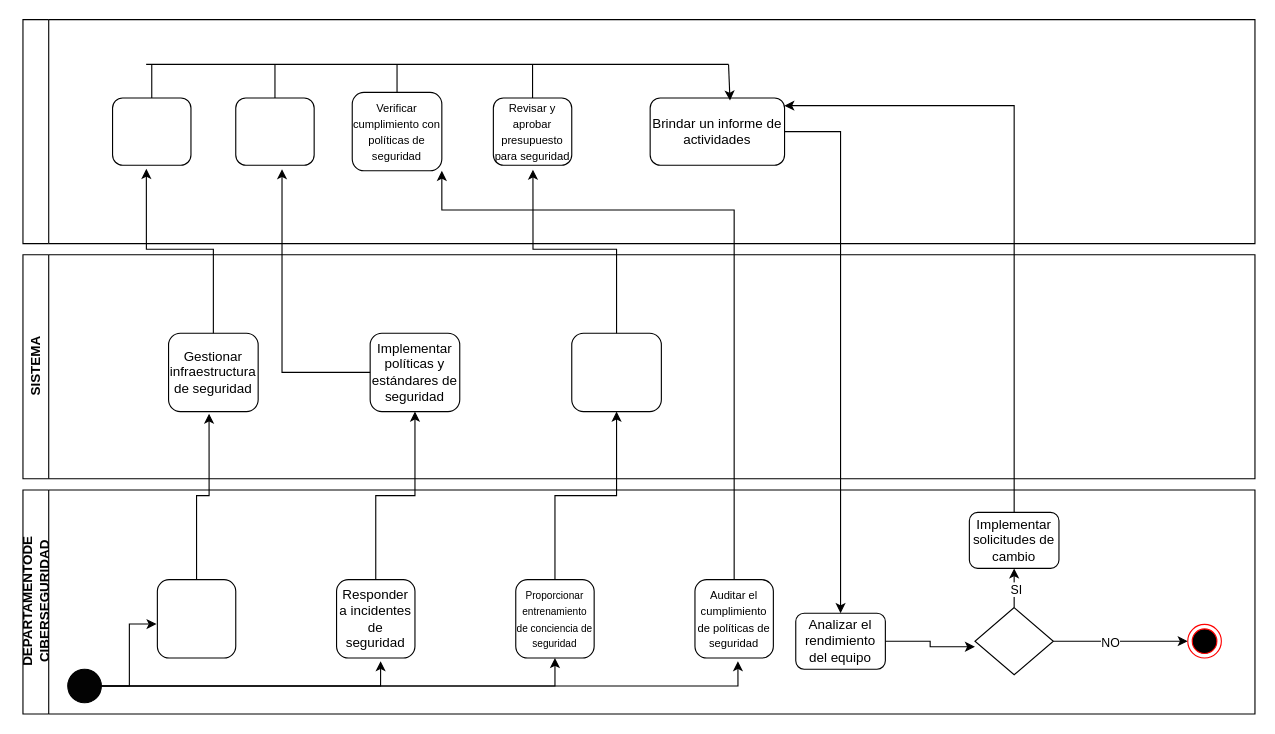
The diagram is 1275 pixels wide and 734 high, and some of its shapes have lost their labels. The box of each missing label's shape, as (x1, y1, x2, y2) in pixels:
CIO: (22, 18, 1255, 244)
Definir la estrategia de seguridad de la información: (111, 97, 191, 165)
Establecer políticas de seguridad y cumplimiento: (235, 97, 314, 165)
Gestionar recursos financieros para iniciativas de seguridad: (571, 332, 661, 412)
Realizar auditorías de seguridad regulares: (156, 578, 236, 658)
realizar cambios: (974, 606, 1053, 675)
